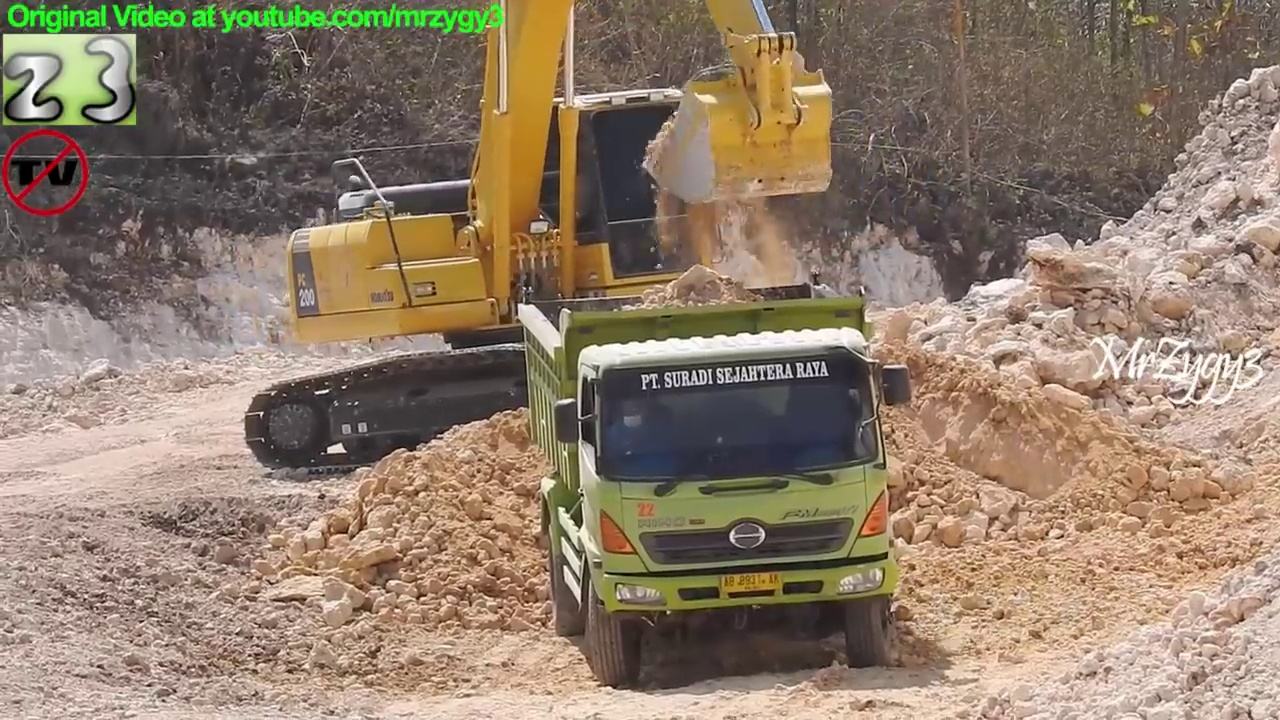excavator: (238, 1, 895, 483)
truck: (512, 275, 919, 689)
